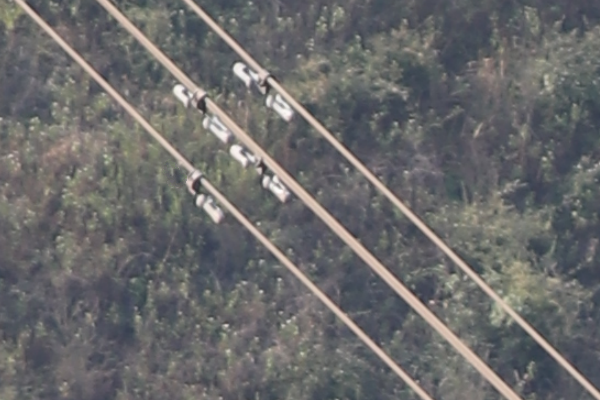damper: (229, 56, 297, 125), (228, 138, 292, 206), (173, 80, 232, 139)
damper_defect: (177, 160, 225, 225)
